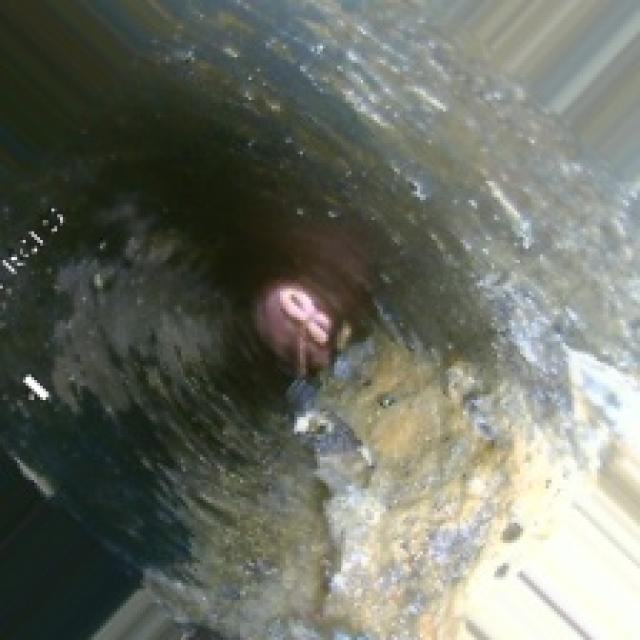sluge accumulation: (314, 357, 612, 620)
